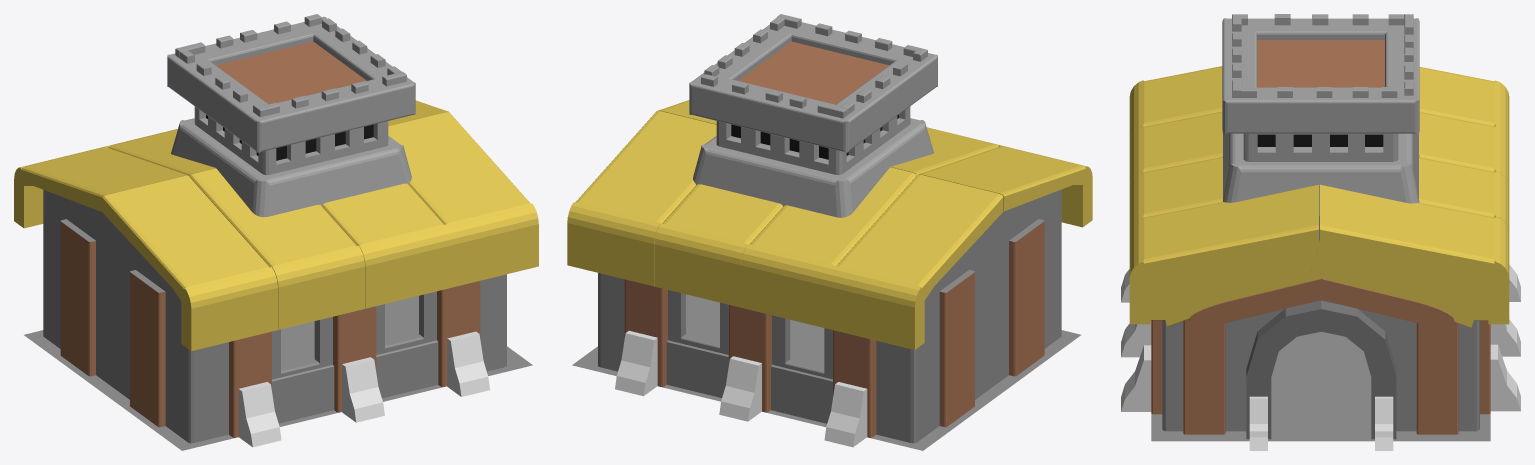
The picture shows the model from 3 angles, left to right: view 1: azimuth 30°, elevation 25°; view 2: azimuth 150°, elevation 25°; view 3: azimuth 270°, elevation 25°; orthographic projection. The views are drawn at different scales.
Visible parts, largest first — view 1: Cube.010, Plane, Plane.001, Cube.009, Cube.001; view 2: Cube.009, Plane, Plane.001, Cube.010, Cube.001; view 3: Plane.001, Plane, Cube.010, Cube.009, Cube.001, Cube.002, Cube.011, Cube.012.
Part boxes in pixels (left/top/right/bottom): Cube.010: left=102, top=112, right=538, bottom=350; Plane: left=24, top=190, right=532, bottom=450; Plane.001: left=167, top=14, right=415, bottom=217; Cube.009: left=14, top=100, right=449, bottom=228; Cube.001: left=238, top=331, right=489, bottom=447; Cube.009: left=567, top=111, right=1003, bottom=349; Plane: left=572, top=189, right=1081, bottom=450; Plane.001: left=689, top=14, right=937, bottom=217; Cube.010: left=658, top=100, right=1092, bottom=227; Cube.001: left=615, top=330, right=867, bottom=447; Plane.001: left=1222, top=14, right=1419, bottom=216; Plane: left=1151, top=216, right=1490, bottom=441; Cube.010: left=1129, top=66, right=1319, bottom=326; Cube.009: left=1307, top=67, right=1509, bottom=327; Cube.001: left=1121, top=264, right=1520, bottom=450; Cube.002: left=1246, top=301, right=1396, bottom=439; Cube.011: left=1315, top=278, right=1454, bottom=331; Cube.012: left=1189, top=278, right=1325, bottom=331.
Bounding box in the file's own units: 4.56 × 3.36 × 4.
